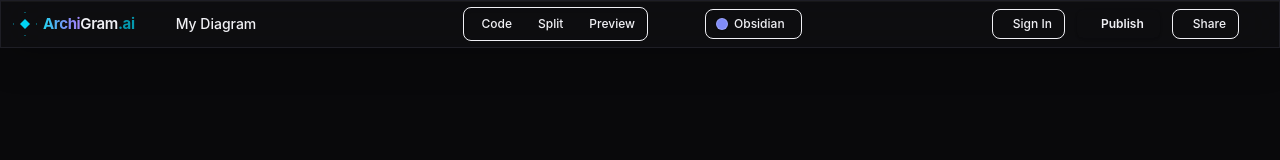
CommandBar › switches to edit mode when project title is clicked
Click the button "My Diagram".
click(216, 24)  # box [176,15,256,32]
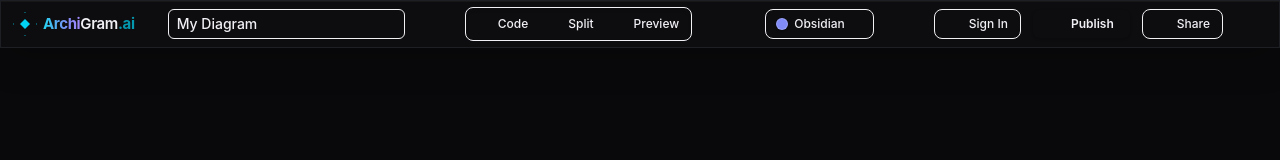
Expected: the field named "project title" is shown, [168,9,405,39]
